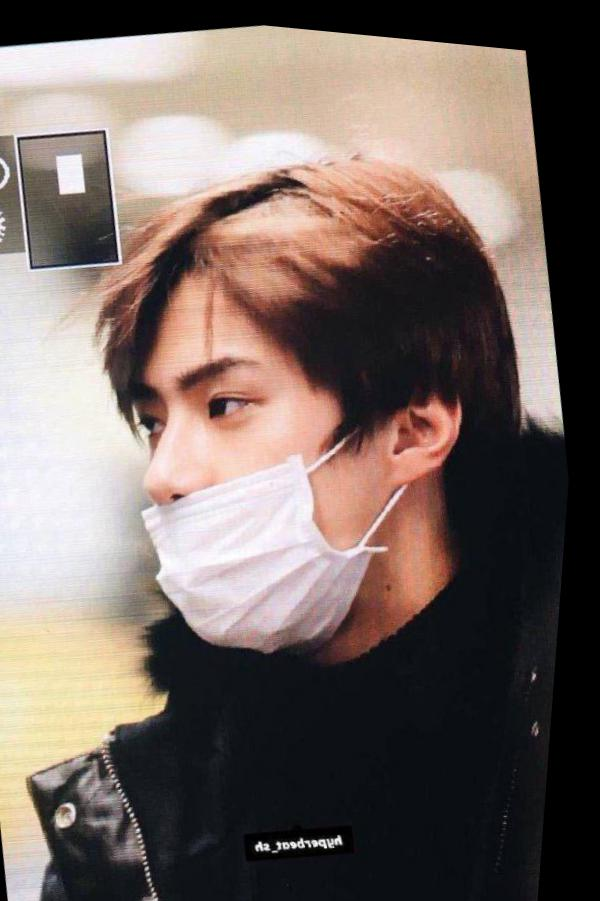WRONG: (105, 281, 413, 674)
